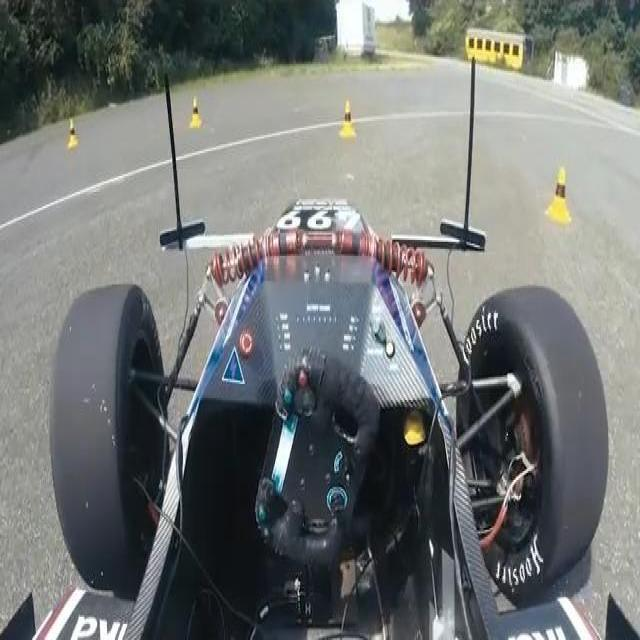yellow_cone: (545, 167, 574, 227), (340, 102, 359, 138), (188, 94, 203, 129), (66, 117, 79, 149)
